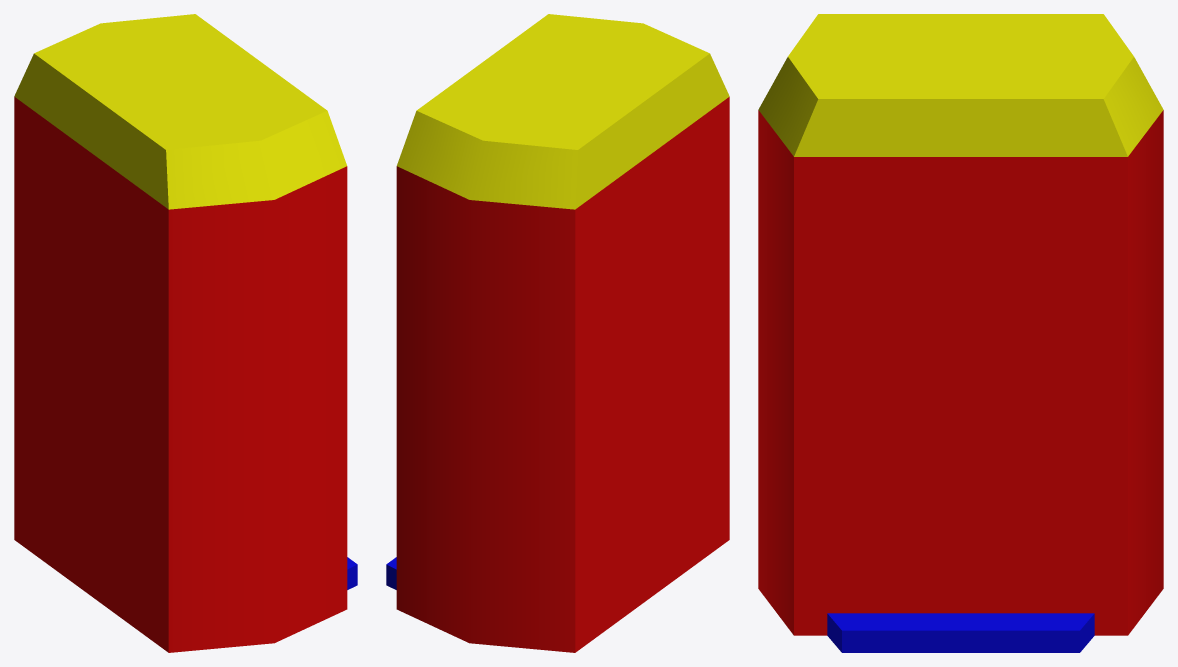
The model's file is Mülleimer_1_low.fbx.
3 renders of one model, left to right at view 1: azimuth 30°, elevation 25°; view 2: azimuth 150°, elevation 25°; view 3: azimuth 270°, elevation 25°, orthographic. The views are drawn at different scales.
Parts seen in each view (by area): view 1: Mülleimer_1_low; view 2: Mülleimer_1_low; view 3: Mülleimer_1_low.
Part boxes in pixels (bbox=[...]): Mülleimer_1_low: bbox=[14, 14, 357, 652]; Mülleimer_1_low: bbox=[386, 14, 729, 652]; Mülleimer_1_low: bbox=[758, 14, 1163, 652].
Bounding box in the file's own units: 0.2366 × 0.5274 × 0.364.
